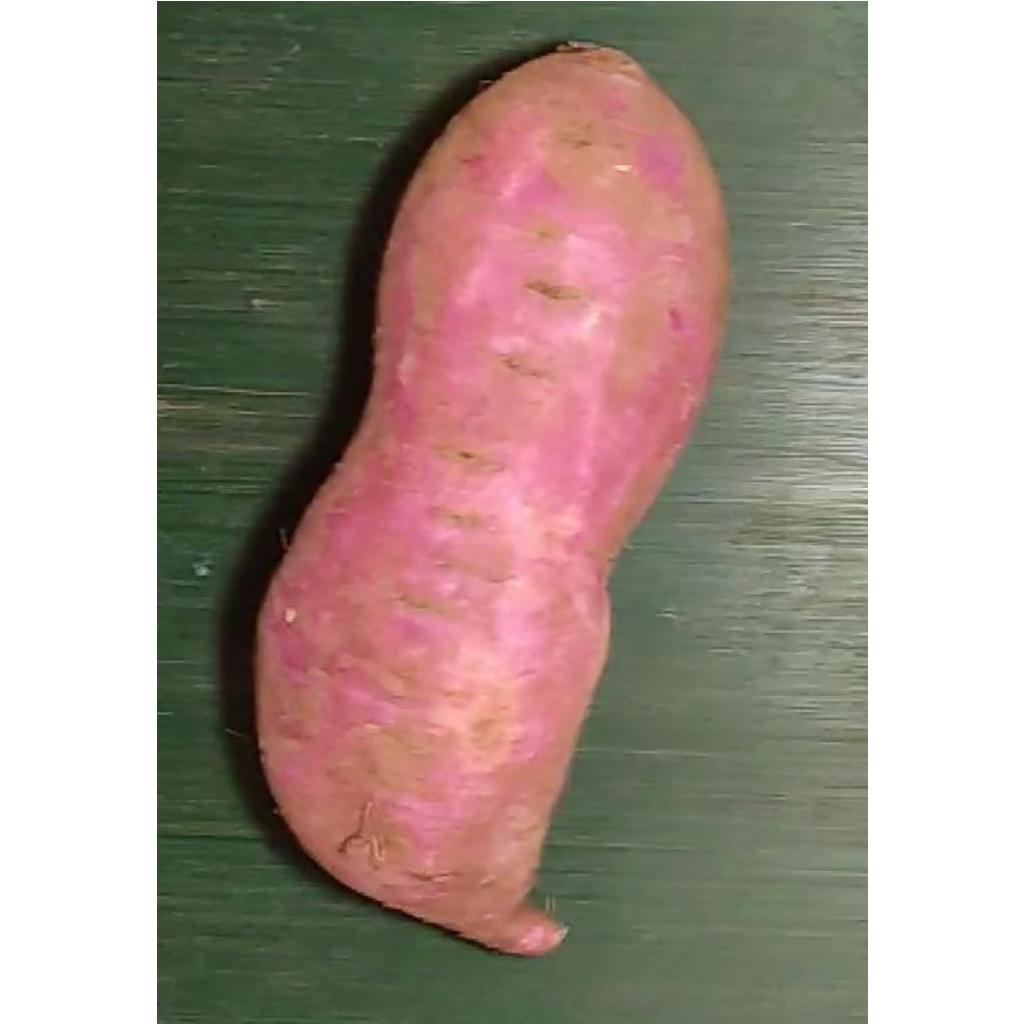Sweet Potato: (246, 38, 732, 961)
